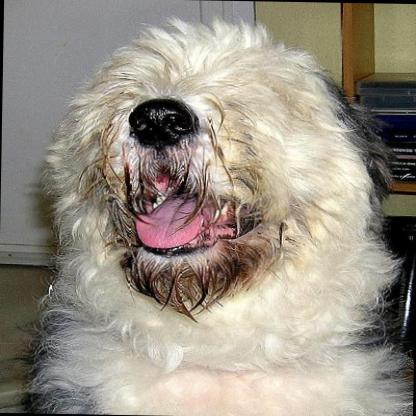Old_English_sheepdog: (22, 11, 416, 416)
